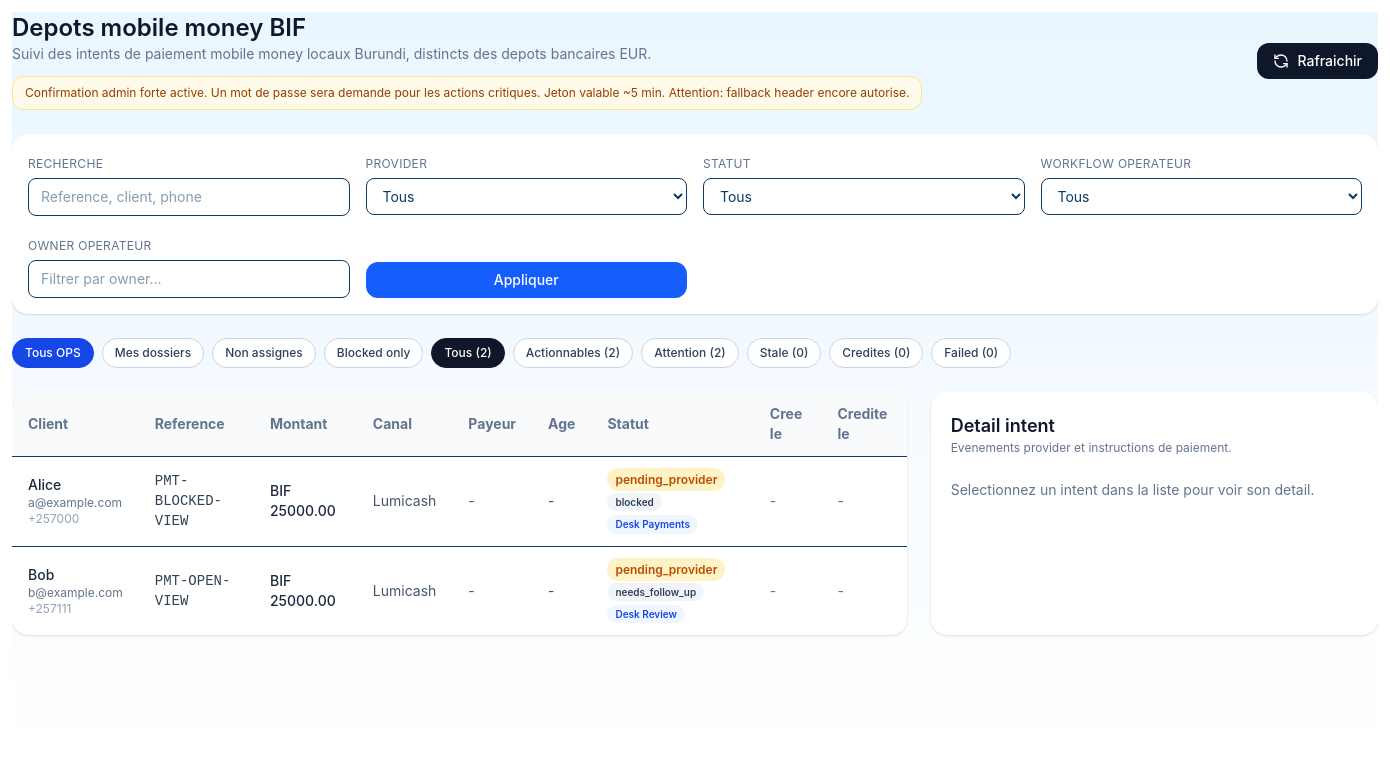
Test: AdminPaymentIntentsPage › shows only blocked operator payment intents in blocked view
expect the text "PMT-BLOCKED-VIEW" is shown: met, box [139,456,254,546]
Click the button "Blocked only" at (374, 353), box [324,338,424,368]
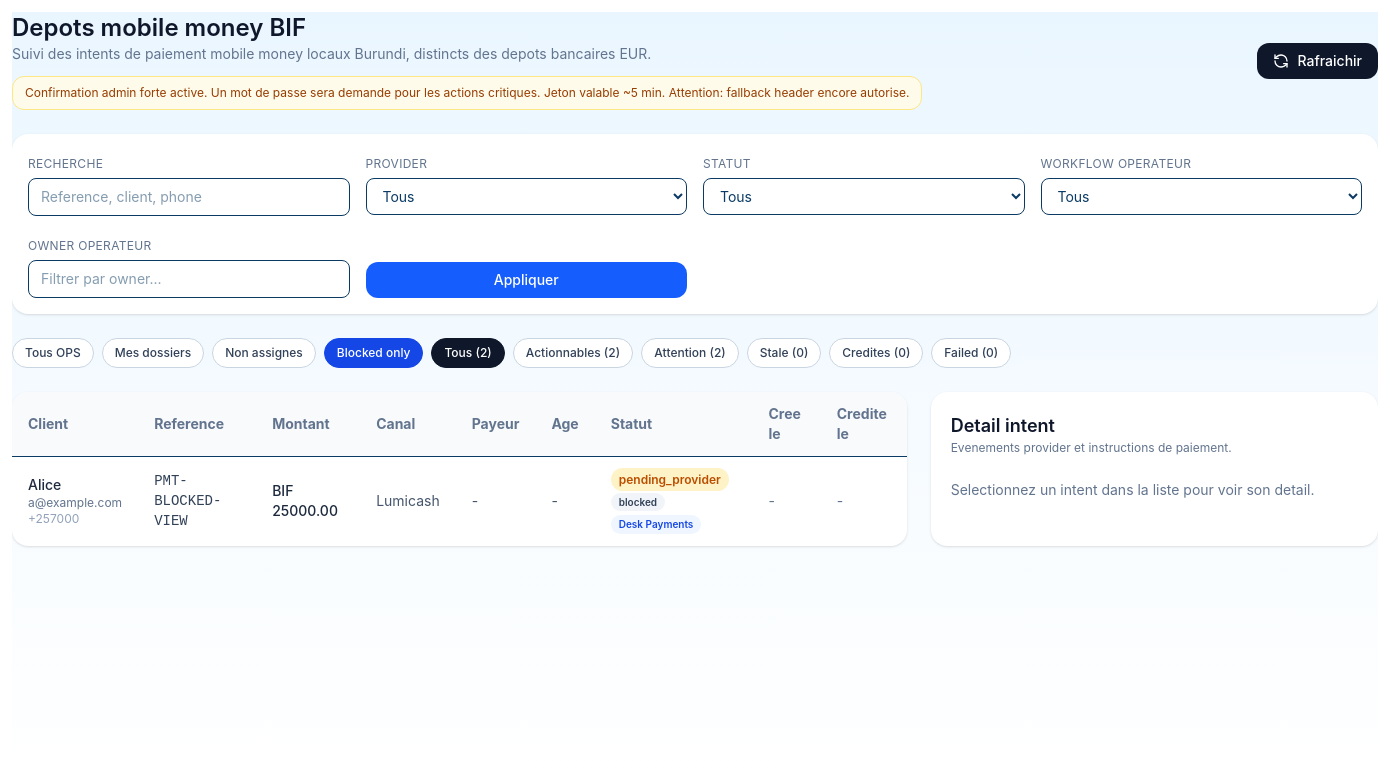
expect the text "PMT-BLOCKED-VIEW" is shown: met, box [138,456,256,546]
expect the text "PMT-OPEN-VIEW" is gone: met
